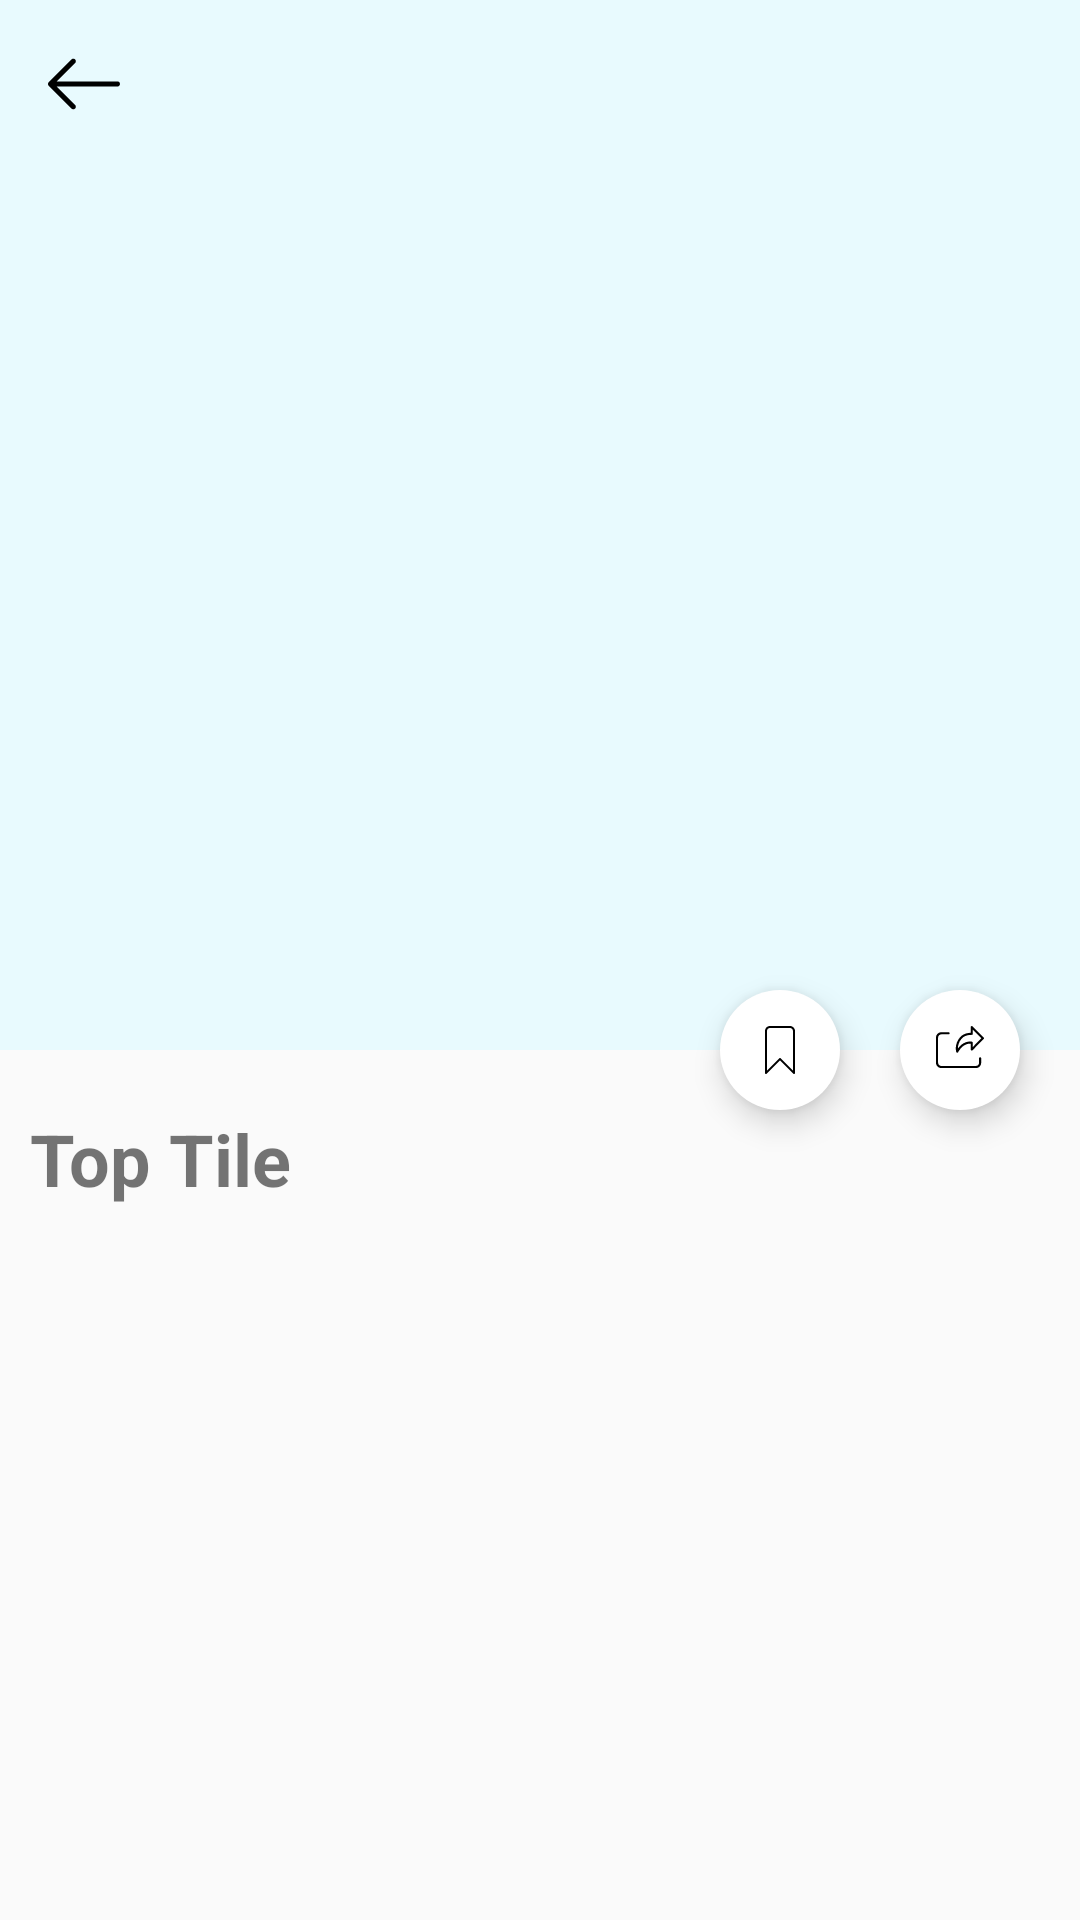

Icons on this 1080 × 1920 Android screen, each with its box as (x1, y1, x2, y2):
back: (48, 58, 120, 110)
bookmark: (720, 990, 840, 1110)
share: (900, 990, 1020, 1110)
